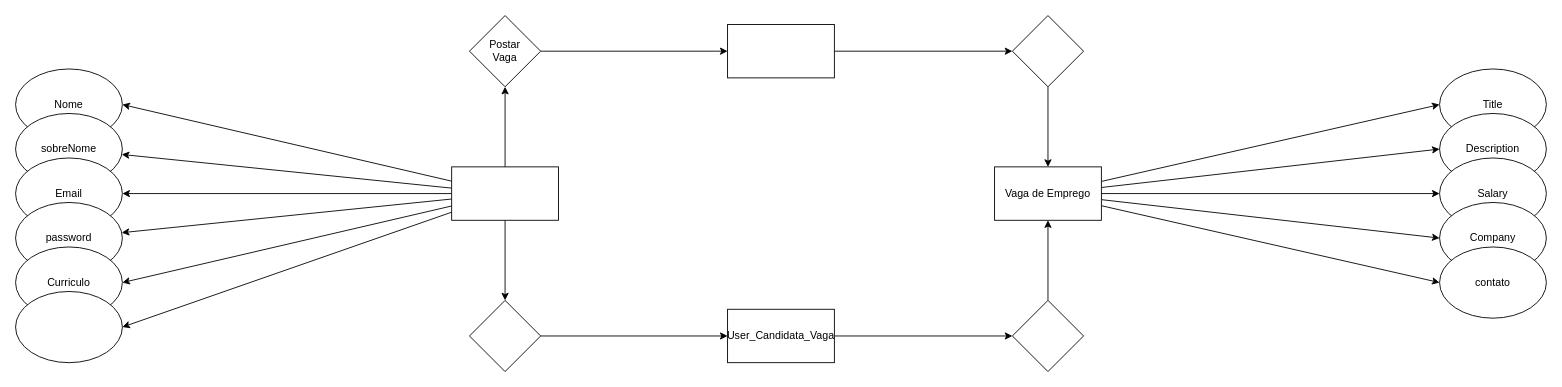
Image size: 1562x387. Some labels were removed from this diagram. Here are the shapes that lost their labels. From the top down, the centre of each, then its label:
point (780, 51): User_Cria_Vaga
point (1047, 51): criar vaga
point (504, 193): User
point (505, 335): Canditar a Vaga
point (1047, 335): Candidatos
